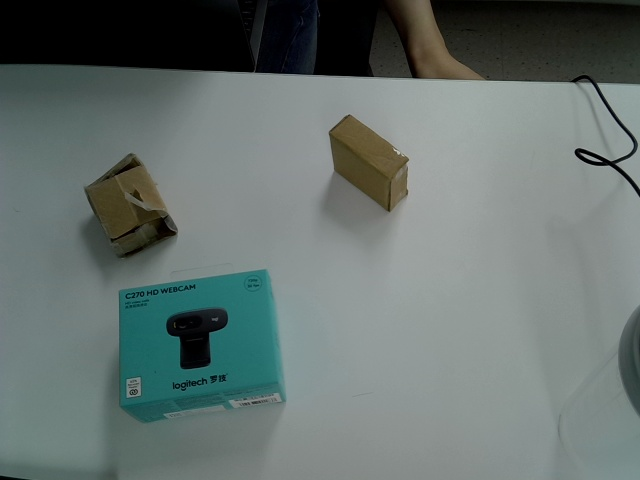defect: (84, 151, 179, 260)
normal: (329, 113, 409, 213)
